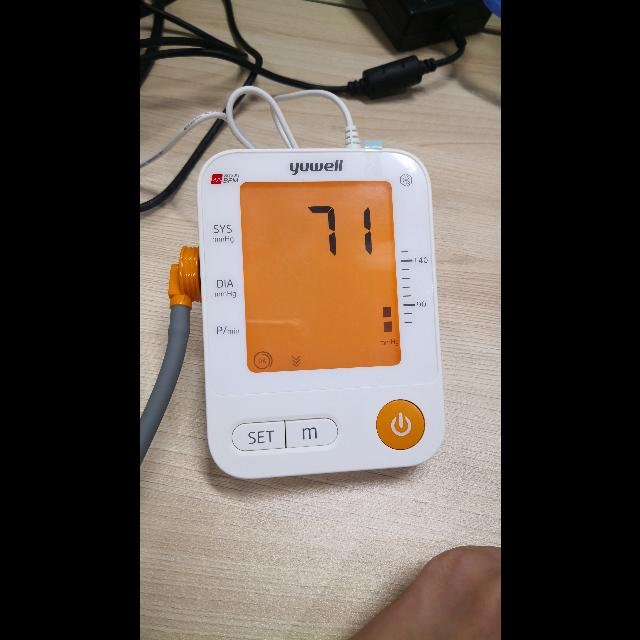Blood-Pressure-Monitor: (198, 148, 444, 478)
